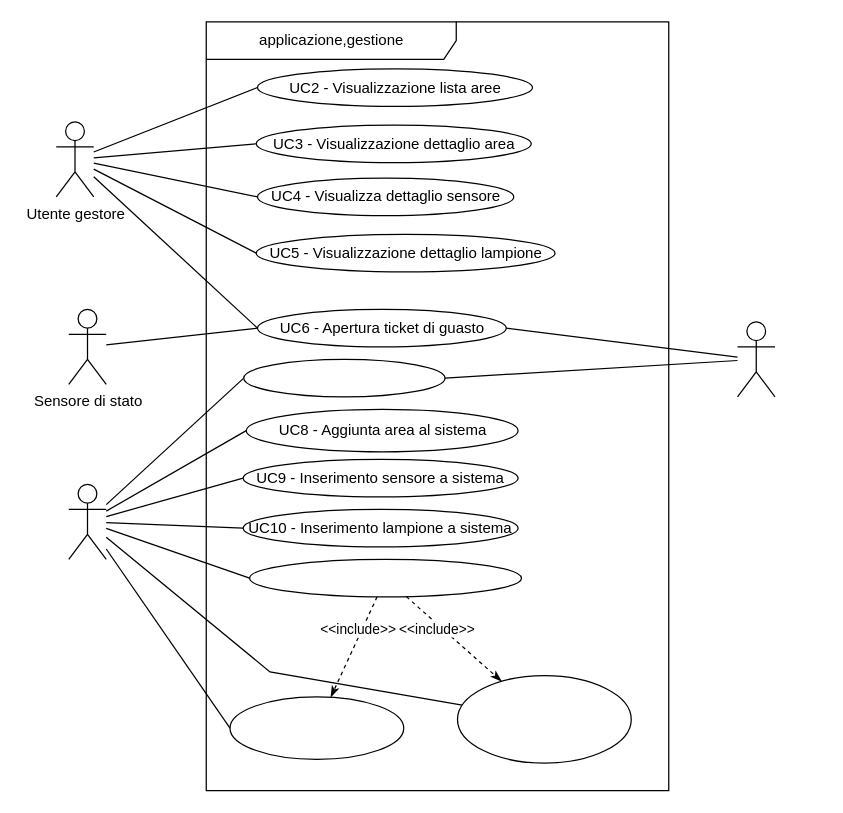
Some shapes in this 843 by 813 pixel diagram are drawn without their labels. Each missing label, with the centre of its shape:
"Sistema di ticketing" goes at pixel 755 359.
"UC11 - Rimozione area dal sistema" goes at pixel 385 577.
"UC12 - Rimozione sensore a sistema" goes at pixel 316 727.
"UC13 - Rimozione lampione dal sistema" goes at pixel 543 718.
"UC7- Chiusura Ticket" goes at pixel 343 377.
"Utente manutentore" goes at pixel 87 521.
